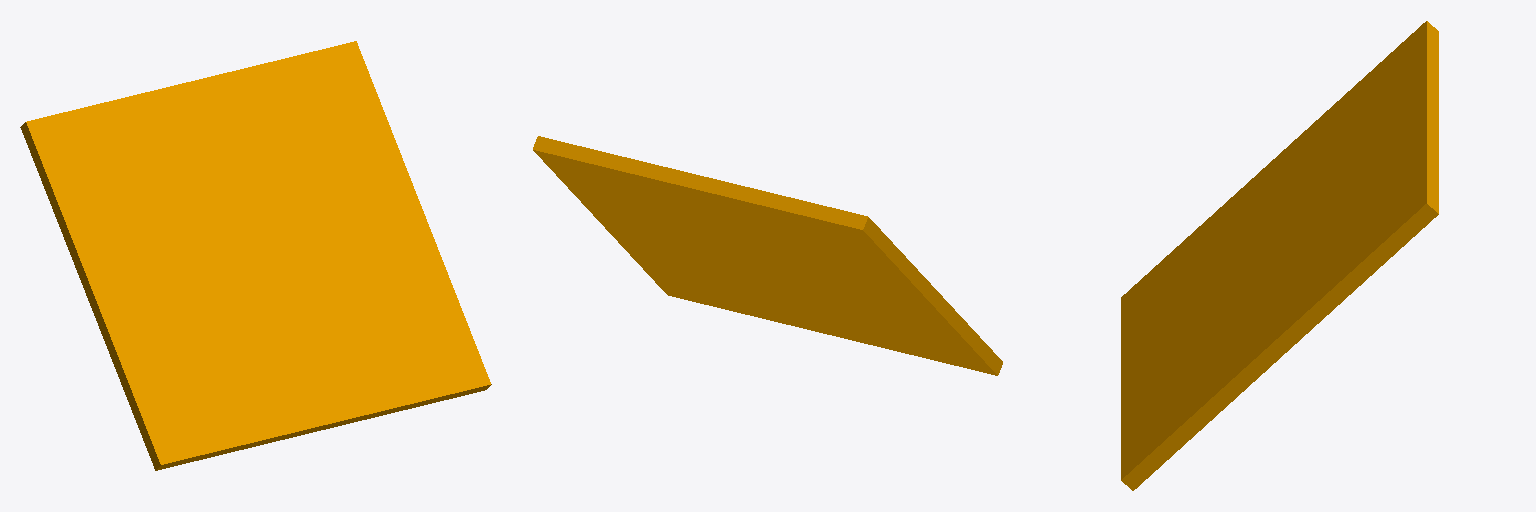
robot.urdf — panda_collision:
<?xml version='1.0' encoding='utf-8'?>
<robot name="panda_collision">

    <link name="link0">
      <inertial>
        <origin xyz="0 0 0.05" rpy="0 0 0" />
        <mass value="4" />
        <inertia ixx="0.4" iyy="0.4" izz="0.4" ixy="0" ixz="0" iyz="0" />
      </inertial>
      <visual>
        <geometry>
          <mesh filename="../../../model/panda/meshes/visual/link0.obj"/>
        </geometry>
      </visual>
      <collision>
        <!--<geometry>
          <mesh filename="../../../model/panda/meshes/collision/link0.obj"/>
        </geometry> -->
      </collision>
    </link>
    <link name="link1">
      <inertial>
        <origin xyz="0 0 -0.07" rpy="0 -0 0" />
        <mass value="4" />
        <inertia ixx="0.3" iyy="0.3" izz="0.3" ixy="0" ixz="0" iyz="0" />
      </inertial>
      <visual>
        <geometry>
          <mesh filename="../../../model/panda/meshes/visual/link1.obj"/>
        </geometry>
      </visual>
      <collision>
        <!--<geometry>
          <mesh filename="../../../model/panda/meshes/collision/link1.obj"/>
        </geometry>-->
      </collision>
    </link>
    <link name="link2">
      <inertial>
        <origin xyz="0 -0.1 0" rpy="0 0 0" />
        <mass value="3" />
        <inertia ixx="0.3" iyy="0.3" izz="0.3" ixy="0" ixz="0" iyz="0" />
      </inertial>
      <visual>
        <geometry>
          <mesh filename="../../../model/panda/meshes/visual/link2.obj"/>
        </geometry>
      </visual>
      <collision>
        <!--<geometry>
          <mesh filename="../../../model/panda/meshes/collision/link2.obj"/>
        </geometry>-->
      </collision>
    </link>
    <link name="link3">
      <inertial>
        <origin xyz="0.04 0 -0.05" rpy="0 0 0" />
        <mass value="3" />
        <inertia ixx="0.2" iyy="0.2" izz="0.2" ixy="0" ixz="0" iyz="0" />
      </inertial>
      <visual>
        <geometry>
          <mesh filename="../../../model/panda/meshes/visual/link3.obj"/>
        </geometry>
      </visual>
      <collision>
        <!--<geometry>
          <mesh filename="../../../model/panda/meshes/collision/link3.obj"/>
        </geometry>-->
      </collision>
    </link>
    <link name="link4">
      <inertial>
        <origin xyz="-0.04 0.05 0" rpy="0 0 0" />
        <mass value="3" />
        <inertia ixx="0.2" iyy="0.2" izz="0.2" ixy="0" ixz="0" iyz="0" />
      </inertial>
      <visual>
        <geometry>
          <mesh filename="../../../model/panda/meshes/visual/link4.obj"/>
        </geometry>
      </visual>
      <collision>
        <geometry>
          <mesh filename="../../../model/panda/meshes/collision/link4.obj"/>
        </geometry>
      </collision>
    </link>
    <link name="link5">
      <inertial>
        <origin xyz="0 0 -0.15" rpy="0 0 0" />
        <mass value="3" />
        <inertia ixx="0.2" iyy="0.2" izz="0.2" ixy="0" ixz="0" iyz="0" />
      </inertial>
      <visual>
        <geometry>
          <mesh filename="../../../model/panda/meshes/visual/link5.obj"/>
        </geometry>
      </visual>
      <collision>
        <!--<geometry>
          <mesh filename="../../../model/panda/meshes/collision/link5.obj"/>
        </geometry>-->
      </collision>
    </link>
    <link name="link6">
      <inertial>
        <origin xyz="0.06 0 0" rpy="0 0 0" />
        <mass value="2" />
        <inertia ixx="0.1" iyy="0.1" izz="0.1" ixy="0" ixz="0" iyz="0" />
      </inertial>
      <visual>
        <geometry>
          <mesh filename="../../../model/panda/meshes/visual/link6.obj"/>
        </geometry>
      </visual>
      <collision>
        <geometry>
          <mesh filename="../../../model/panda/meshes/collision/link6.obj"/>
        </geometry>
      </collision>
    </link>
    <link name="link7">
      <inertial>
        <origin xyz="0 0 0.17" rpy="0 0 0" />
        <mass value="0.5" />
        <inertia ixx="0.09" iyy="0.05" izz="0.07" ixy="0" ixz="0" iyz="0" />
      </inertial>
      <visual>
        <geometry>
          <mesh filename="../../../model/panda/meshes/visual/link7.obj"/>
        </geometry>
      </visual>
      <collision>
        <geometry>
          <mesh filename="../../../model/panda/meshes/collision/link7.obj"/>
        </geometry>
      </collision>
    </link>
    <link name="plate">
      <inertial>
        <origin xyz="0 0 0.0" rpy="0 -0 0" />
        <mass value="0.0001" />
        <inertia ixx="0.01" iyy="0.01" izz="0.005" ixy="0" ixz="0" iyz="0" />
      </inertial>
      <visual>
	<origin xyz ="0 .1 -.125" rpy="0 0 0" />
        <geometry>
          <box size="0.25 0.01 0.25"/>
        </geometry>
      </visual>
      <collision>
	<origin xyz ="0 .1 -.125" rpy="0 0 0" />
        <geometry>
          <box size="0.25 0.01 0.25"/>
        </geometry>
      </collision>
    </link>
    <joint name="joint1" type="revolute">
      <safety_controller k_position="100.0" k_velocity="40.0" soft_lower_limit="-2.8973" soft_upper_limit="2.8973"/>
      <origin rpy="0 0 1.5708" xyz="0 0 0.333"/>
      <parent link="link0"/>
      <child link="link1"/>
      <axis xyz="0 0 1"/>
      <calibration falling="-80.0" />
      <limit effort="87" lower="-2.8973" upper="2.8973" velocity="2.1750"/>
    </joint>
    <joint name="joint2" type="revolute">
      <safety_controller k_position="100.0" k_velocity="40.0" soft_lower_limit="-1.7628" soft_upper_limit="1.7628"/>
      <origin rpy="-1.57079632679 0 0" xyz="0 0 0"/>
      <parent link="link1"/>
      <child link="link2"/>
      <axis xyz="0 0 1"/>
      <calibration falling="-45.0" />
      <limit effort="87" lower="-1.7628" upper="1.7628" velocity="2.1750"/>
    </joint>
    <joint name="joint3" type="revolute">
      <safety_controller k_position="100.0" k_velocity="40.0" soft_lower_limit="-2.8973" soft_upper_limit="2.8973"/>
      <origin rpy="1.57079632679 0 0" xyz="0 -0.316 0"/>
      <parent link="link2"/>
      <child link="link3"/>
      <axis xyz="0 0 1"/>
      <limit effort="87" lower="-2.8973" upper="2.8973" velocity="2.1750"/>
    </joint>
    <joint name="joint4" type="revolute">
      <safety_controller k_position="100.0" k_velocity="40.0" soft_lower_limit="-3.0718" soft_upper_limit="-0.0698"/>
      <origin rpy="1.57079632679 0 0" xyz="0.0825 0 0"/>
      <parent link="link3"/>
      <child link="link4"/>
      <axis xyz="0 0 1"/>
      <calibration falling="-125.0" />
      <limit effort="87" lower="-3.0718" upper="-0.0698" velocity="2.1750"/>
    </joint>
    <joint name="joint5" type="revolute">
      <safety_controller k_position="100.0" k_velocity="40.0" soft_lower_limit="-2.8973" soft_upper_limit="2.8973"/>
      <origin rpy="-1.57079632679 0 0" xyz="-0.0825 0.384 0"/>
      <parent link="link4"/>
      <child link="link5"/>
      <axis xyz="0 0 1"/>
      <limit effort="12" lower="-2.8973" upper="2.8973" velocity="2.6100"/>
    </joint>
    <joint name="joint6" type="revolute">
      <safety_controller k_position="100.0" k_velocity="40.0" soft_lower_limit="-0.0175" soft_upper_limit="3.7525"/>
      <origin rpy="0 0 0" xyz="0 0 0"/>
      <parent link="link5"/>
      <child link="link6"/>
      <axis xyz="0 0 1"/>
      <calibration falling="80.0" />
      <limit effort="12" lower="-0.0175" upper="3.7525" velocity="2.6100"/>
    </joint>
    <joint name="joint7" type="revolute">
      <safety_controller k_position="100.0" k_velocity="40.0" soft_lower_limit="-2.8973" soft_upper_limit="2.8973"/>
      <origin rpy="1.57079632679 0 0" xyz="0.088 0 0"/>
      <parent link="link6"/>
      <child link="link7"/>
      <axis xyz="0 0 1"/>
      <limit effort="12" lower="-2.8973" upper="2.8973" velocity="2.6100"/>
    </joint>
    <joint name="plate_joint" type="fixed">
      <parent link="link7"/>
      <child link="plate"/>
      <origin xyz="0 0 0.1654" rpy="0 0 -0.78539816339"/>
      <axis xyz="0 0 1"/>
    </joint>
</robot>

--- Render facts (derived) ---
The picture shows the robot from 3 angles, left to right: view 1: azimuth 30°, elevation 25°; view 2: azimuth 150°, elevation 25°; view 3: azimuth 270°, elevation 25°; orthographic projection.
Model panda_collision with 9 links and 8 joints (7 revolute, 1 fixed), rooted at link0, posed joints at zero except 1 at the middle of their limits (joint4 = -1.57).
Links seen in each view (by area): view 1: plate; view 2: plate; view 3: plate.
Boxes of the visible links, x1=… form: plate: x1=20, y1=41, x2=491, y2=470; plate: x1=533, y1=136, x2=1002, y2=375; plate: x1=1121, y1=21, x2=1438, y2=490.
Bounding box of the posed robot: 0.25 × 0.1838 × 0.1838 m (x, y, z).
Geometry: only primitive shapes (box / cylinder / sphere) drawn; not drawn: 8 mesh visuals (reference in a form the renderer does not follow).